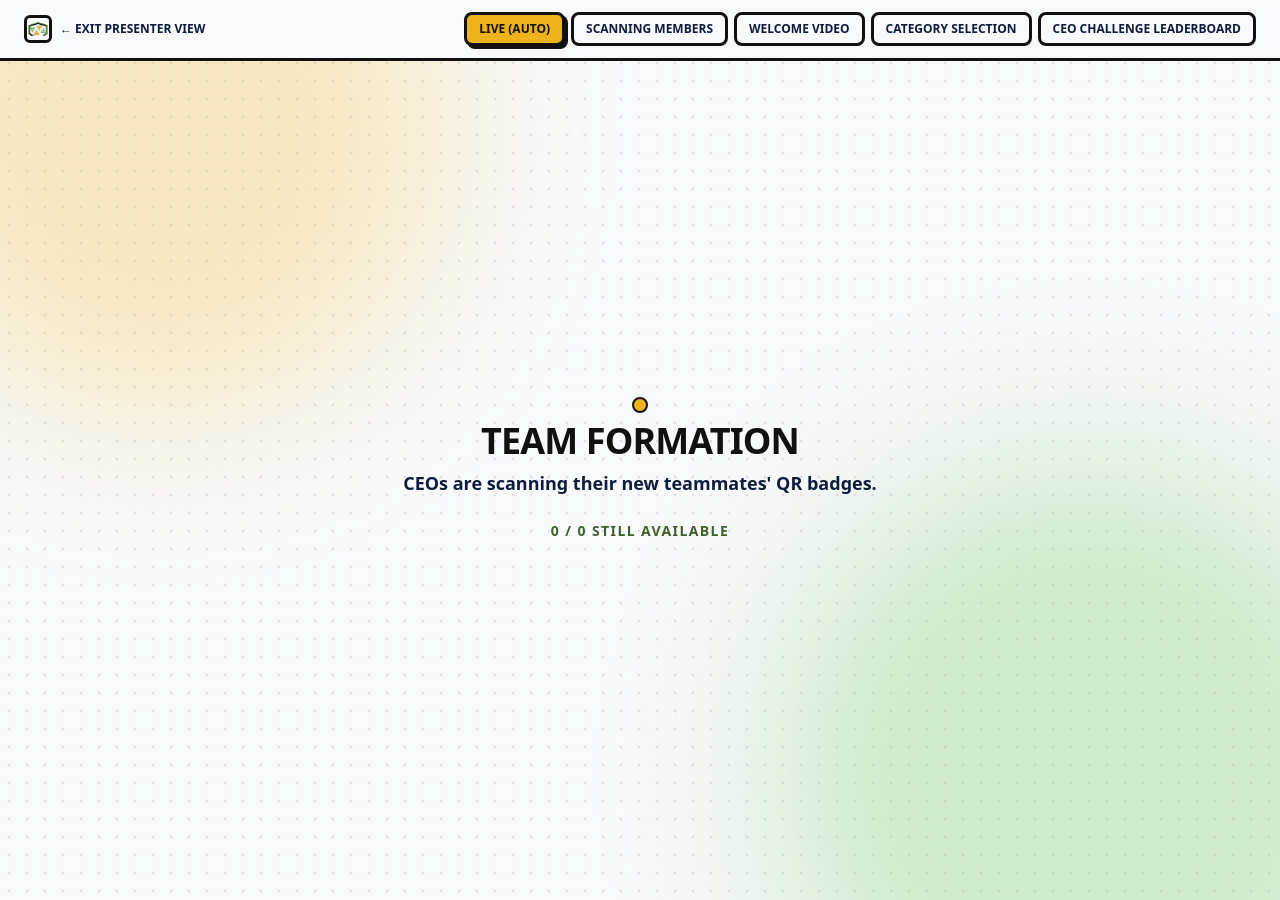
it: Presenter — Category Selection › 1. shows all four category panels with their icons
This screenshot has width=1280, height=900.
Click the button "Category selection" at (951, 29), box [871, 12, 1032, 46]
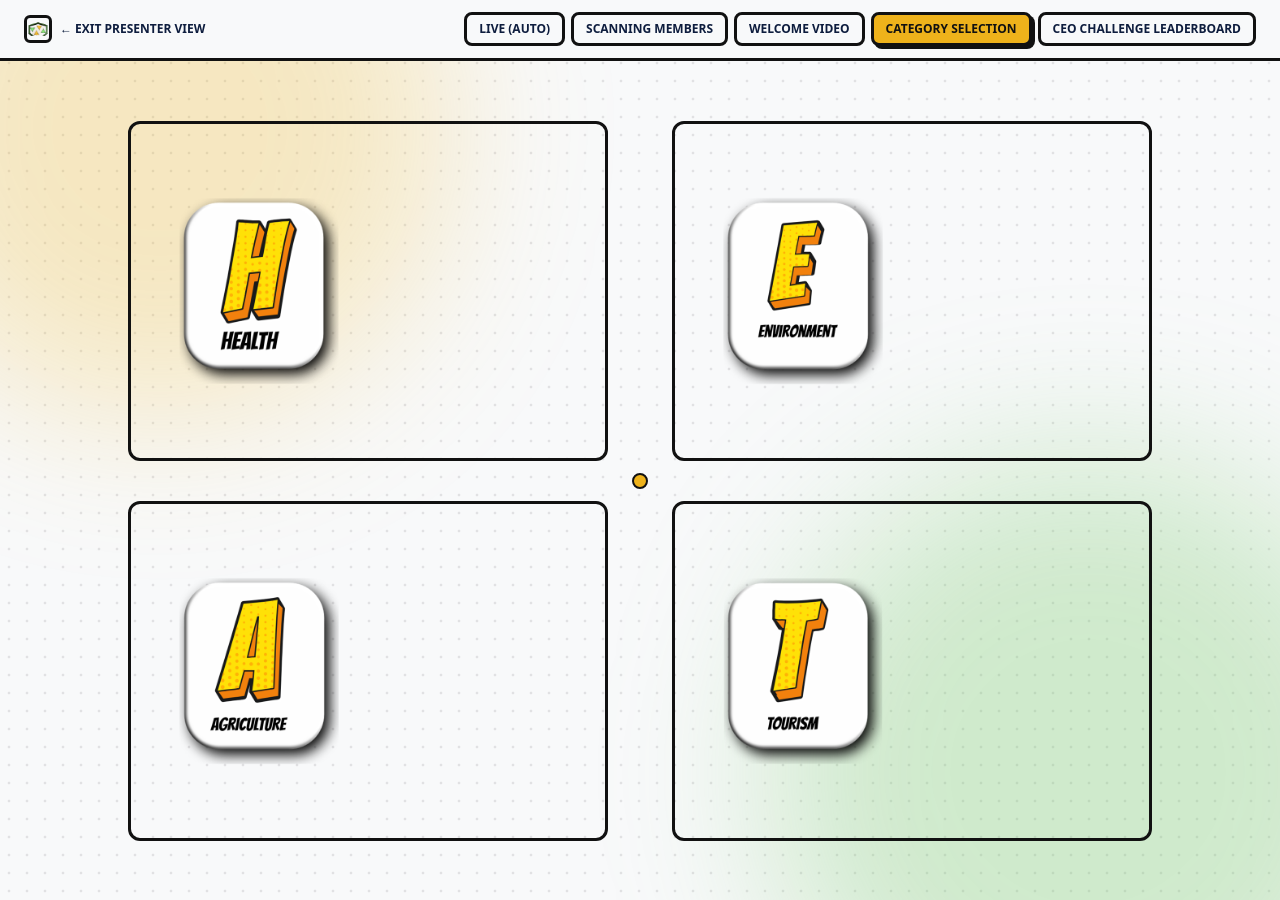
Expected: the element with test id "presenter-category-panel-TOURISM" is shown, [672, 500, 1152, 840]
